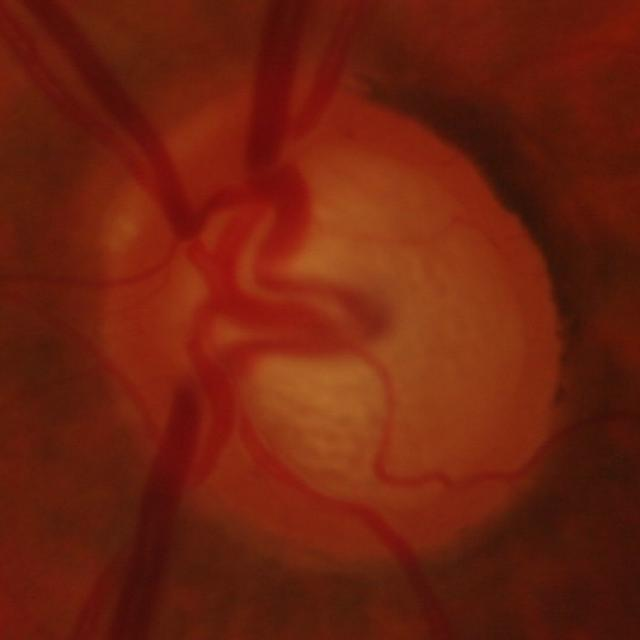OC: (185, 155, 425, 495)
OD: (94, 80, 569, 556)
